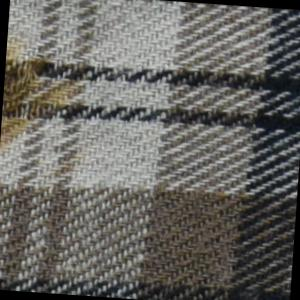Damage: (2, 55, 52, 134)
Oil Stain: (1, 36, 87, 160)
